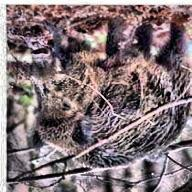boar: (13, 8, 192, 167)
